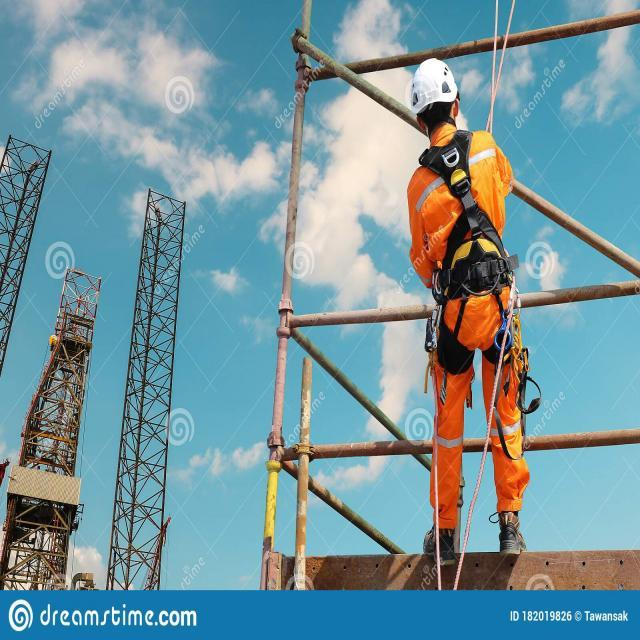belt: (424, 150, 512, 310)
